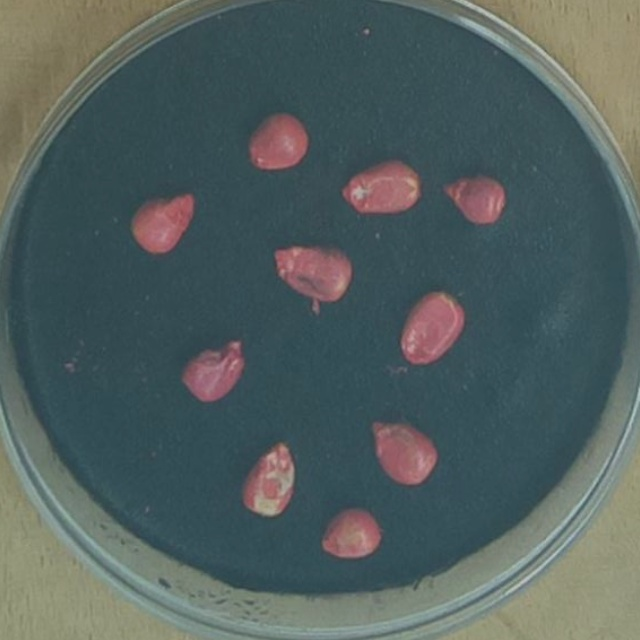Zea mays: (392, 281, 472, 371), (264, 235, 359, 310), (332, 150, 428, 223), (361, 411, 444, 491), (174, 332, 252, 411), (124, 182, 201, 261), (234, 435, 301, 524), (238, 103, 316, 177), (435, 166, 513, 231), (314, 500, 388, 566)
